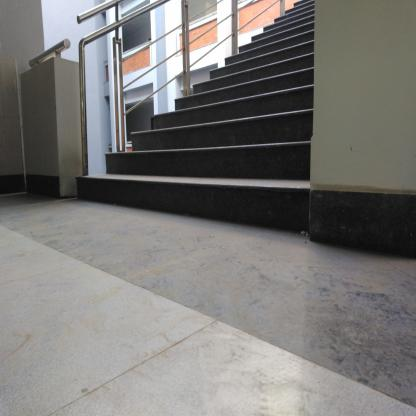stairs: (225, 58, 309, 236)
